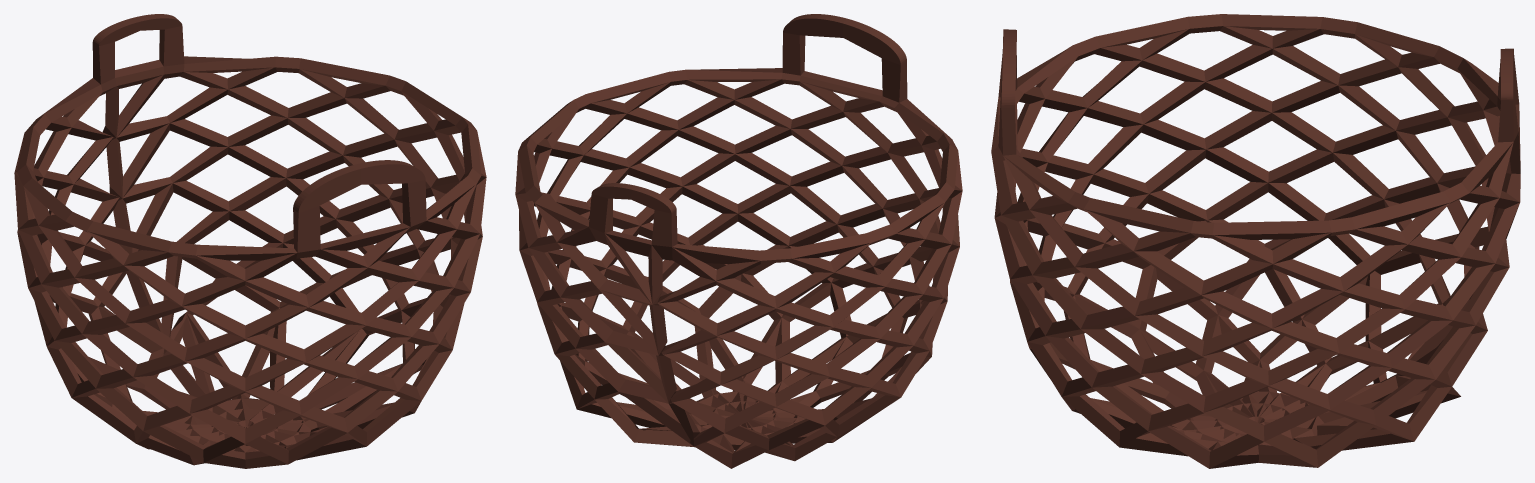
Rendered from Basket.fbx.
3 renders of one model, left to right at view 1: azimuth 30°, elevation 25°; view 2: azimuth 150°, elevation 25°; view 3: azimuth 270°, elevation 25°, orthographic. The views are drawn at different scales.
Visible parts, largest first — view 1: Plane; view 2: Plane; view 3: Plane.
Part boxes in pixels (box(x1,y1,x2,y2)): Plane: box(14, 14, 486, 468); Plane: box(515, 14, 962, 468); Plane: box(991, 14, 1520, 468).
Bounding box in the file's own units: 100 × 82.37 × 100.
